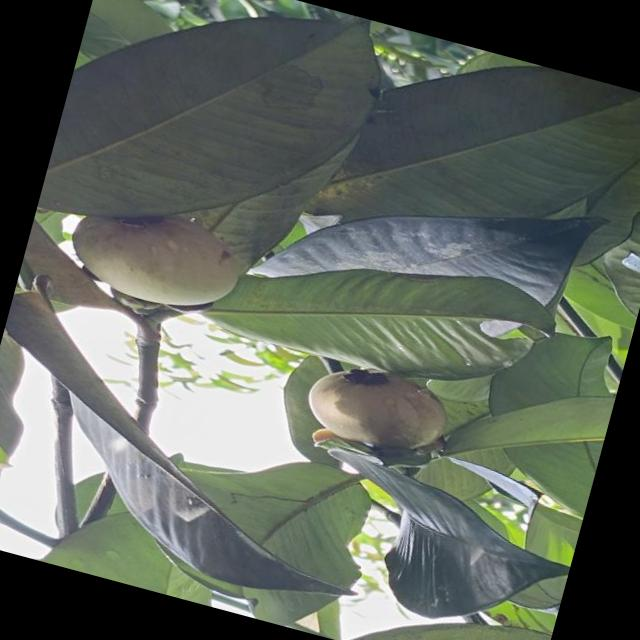mangosteen: (36, 170, 280, 349), (288, 320, 501, 504)
